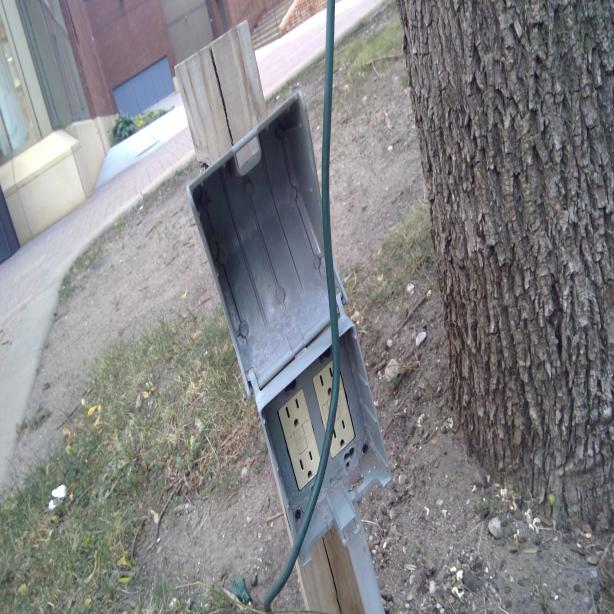typeb: (280, 393, 304, 430), (295, 444, 315, 484), (316, 365, 333, 399), (334, 418, 348, 451)
